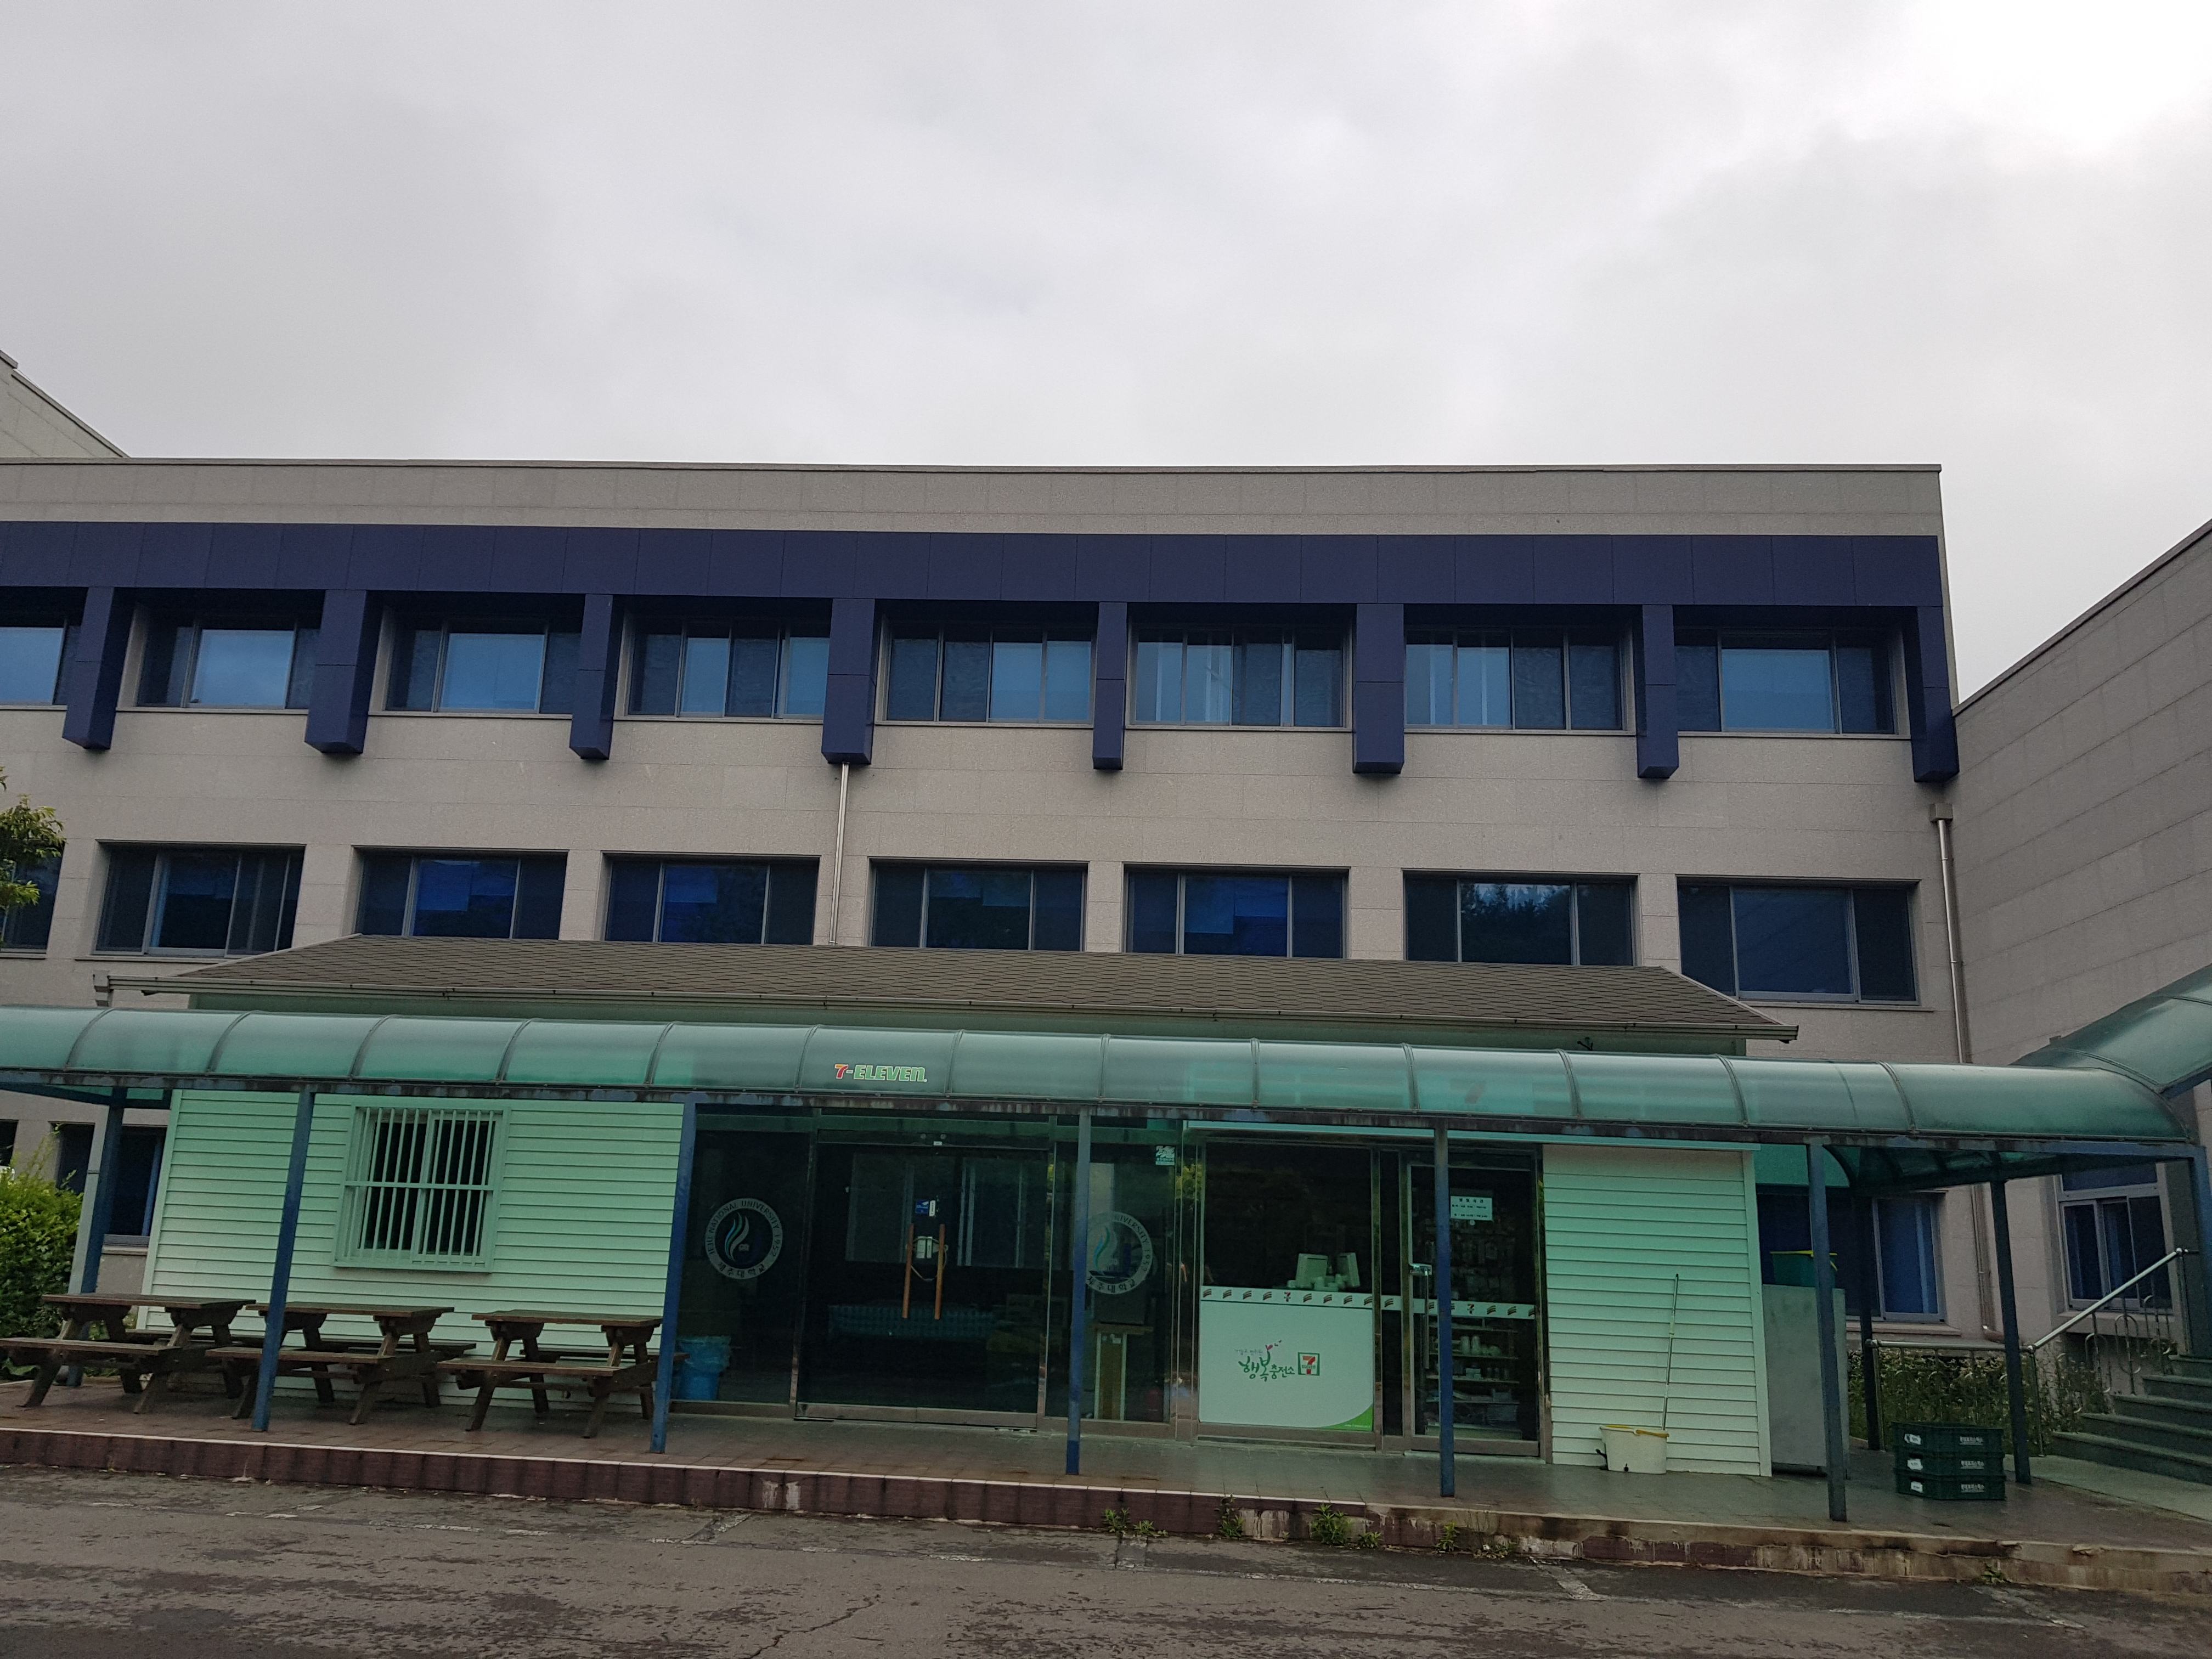College of Social Sciences: (52, 368, 2212, 1595), (92, 906, 2104, 1520), (89, 471, 2006, 826)
